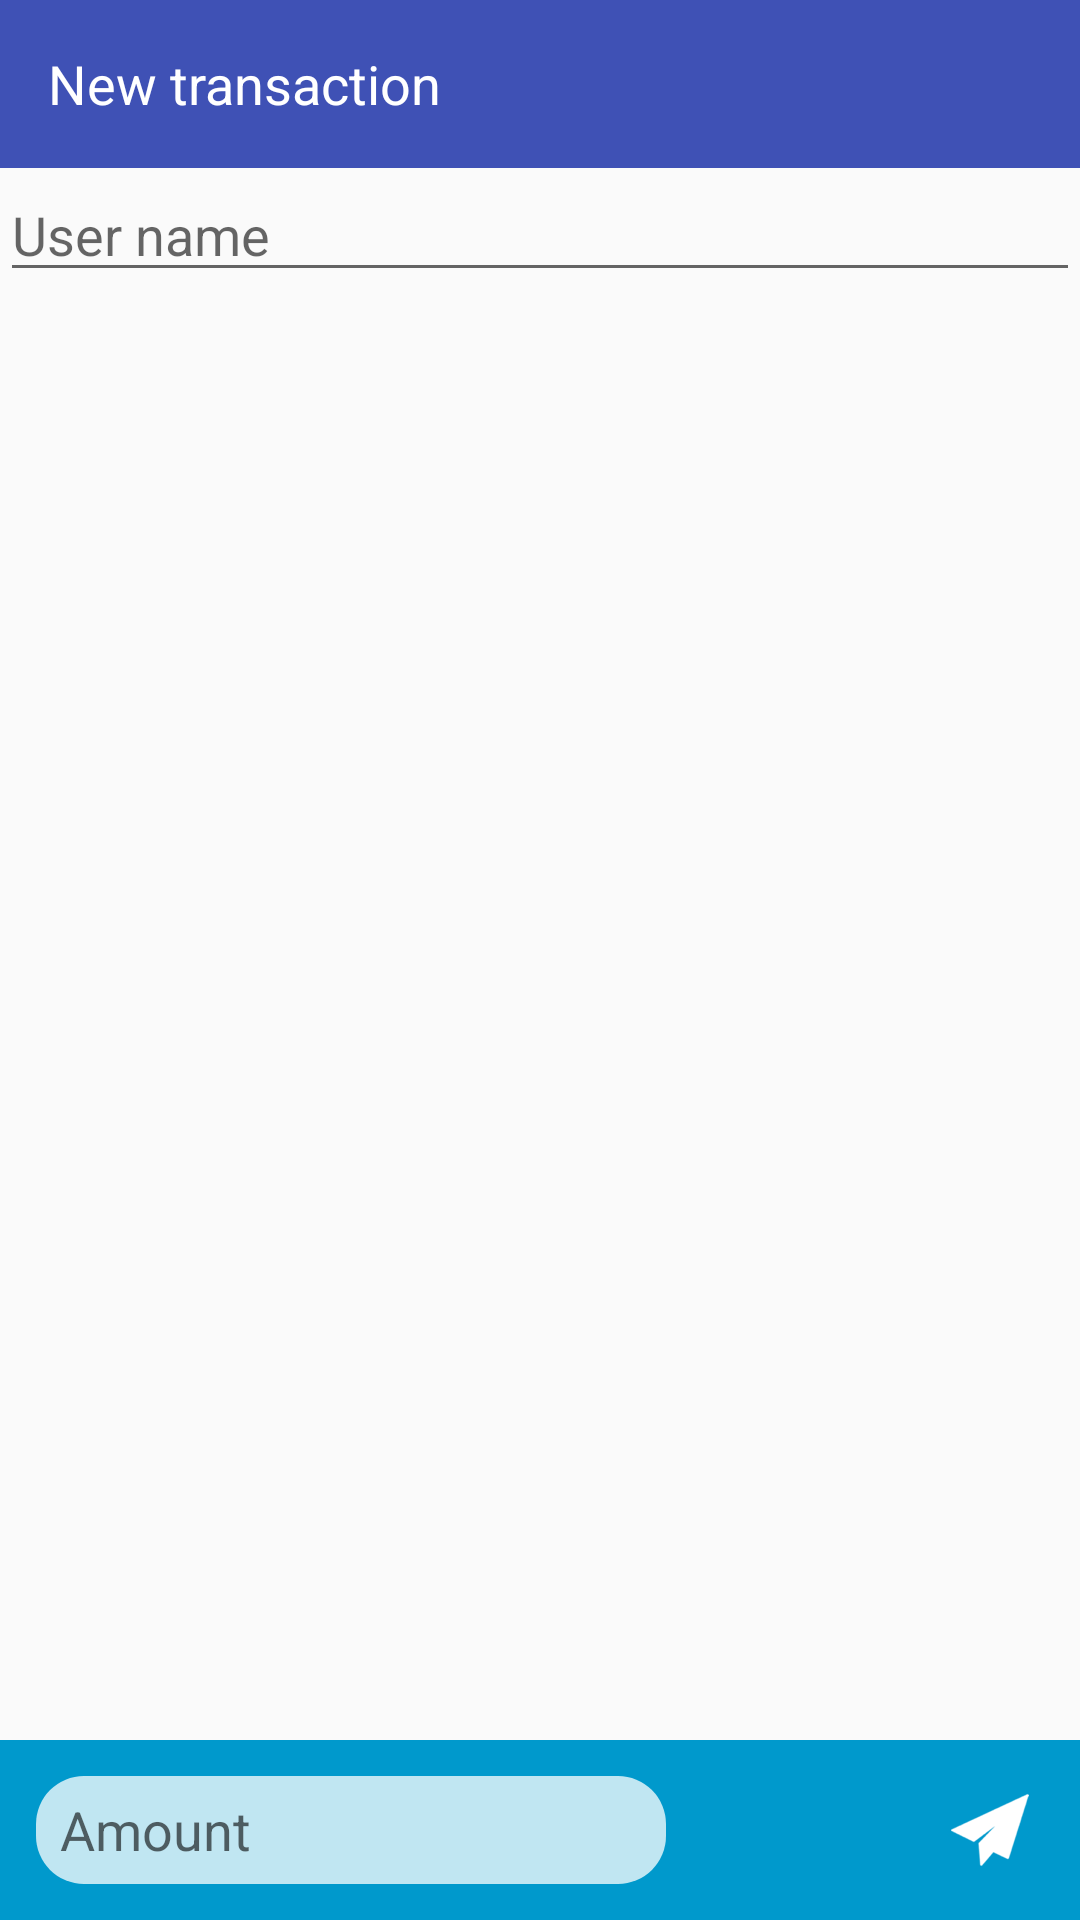

Named icons in this screenshot (1080px×1920px) and their centers, [x,y]:
send: [990,1830]
